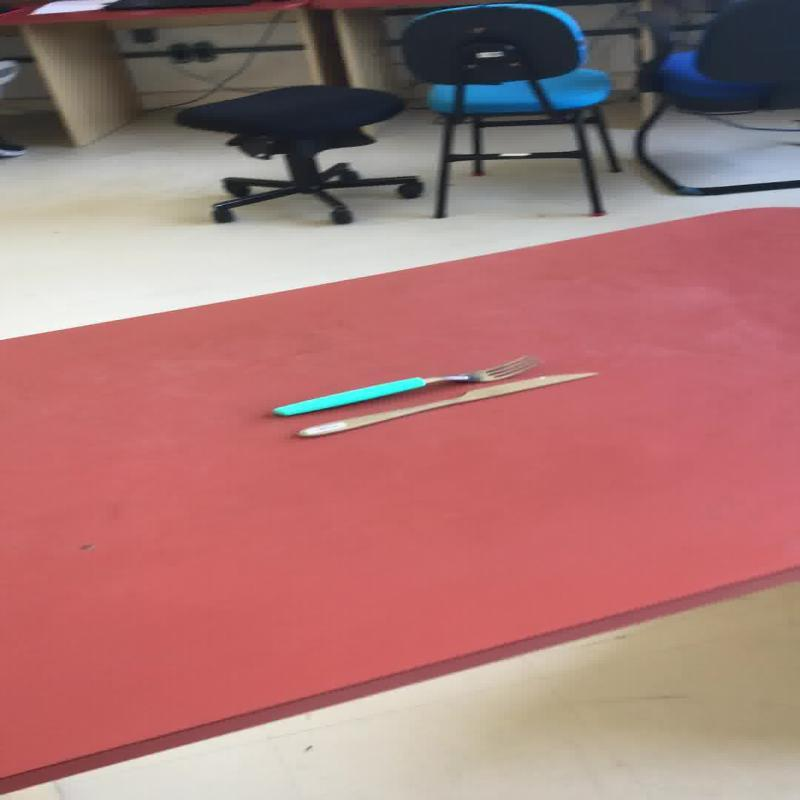fork: (270, 354, 536, 417)
knife: (292, 370, 598, 438), (269, 353, 538, 417)
